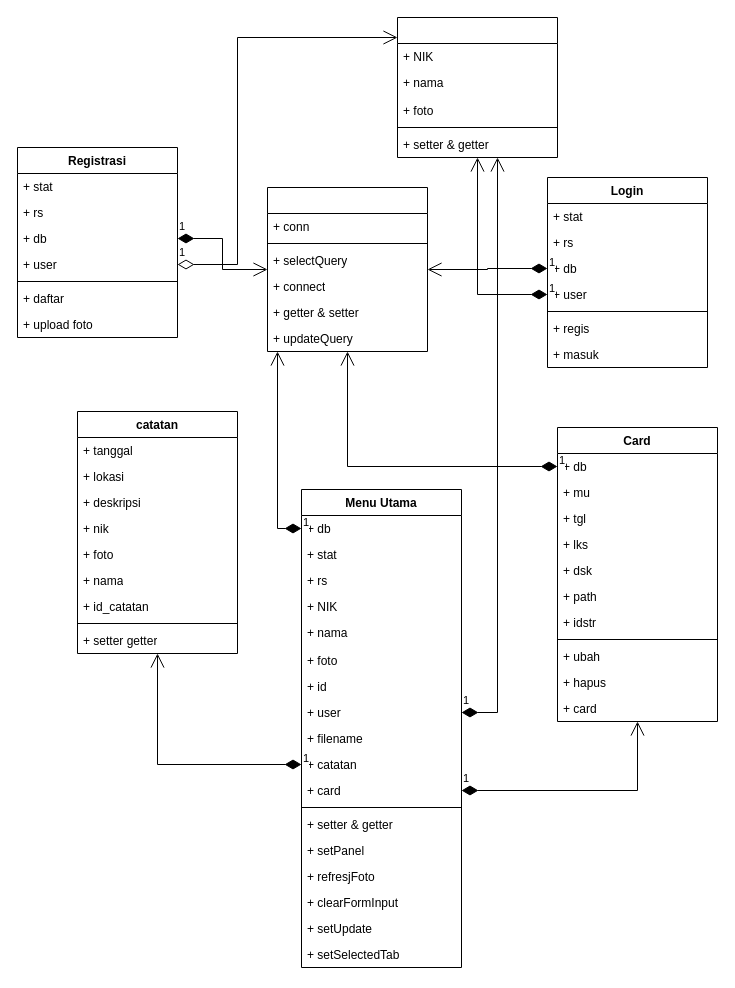
This 735x988 diagram has some shape labels left out. Here are the shapes that lost their labels. From the top down, the box of each, then its label:
(396, 16, 558, 158): User
(266, 186, 428, 352): dbConnection
